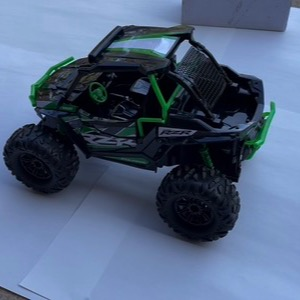polaris: (3, 23, 277, 244)
